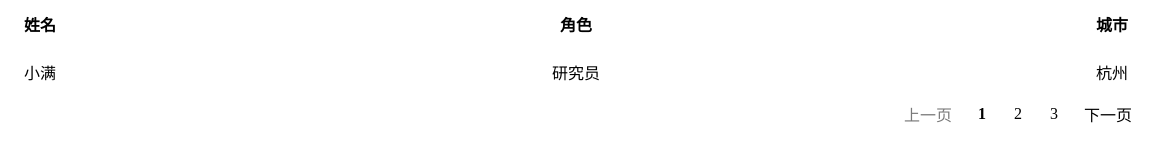
it: LTable › supports built-in pagination linkage
The image size is (1152, 160).
expect the text "阿橙" is not shown: met
expect the number of buttons with class "l-pagination__item" is 3: met, box [964,96,1000,132]; [1000,96,1036,132]; [1036,96,1072,132]
Click the button with class "l-pagination__nav--next" at (1108, 114), box [1072,96,1144,132]
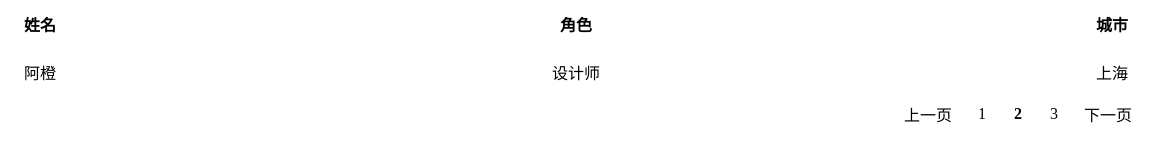
expect the button "2" is shown: met, box [1000,96,1036,132]
expect the text "阿橙" is shown: met, box [8,48,358,96]
expect the text "小满" is gone: met
